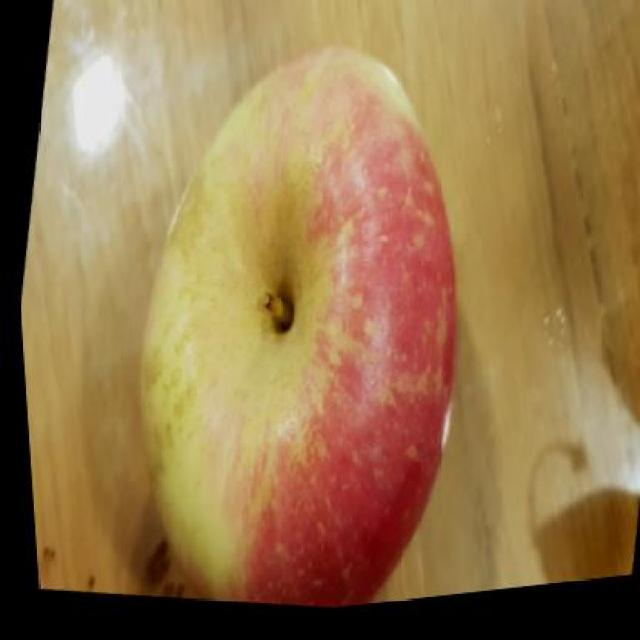Fresh Apple: (157, 60, 462, 598)
